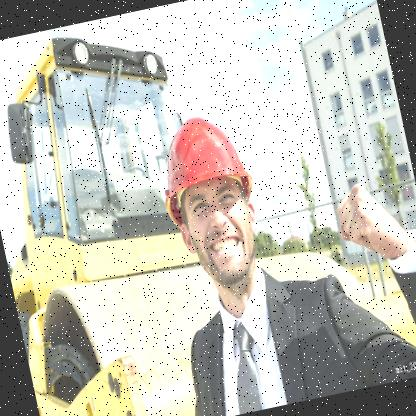capacete: (146, 103, 276, 304)
sem_colete_refletivo: (170, 245, 415, 415)
